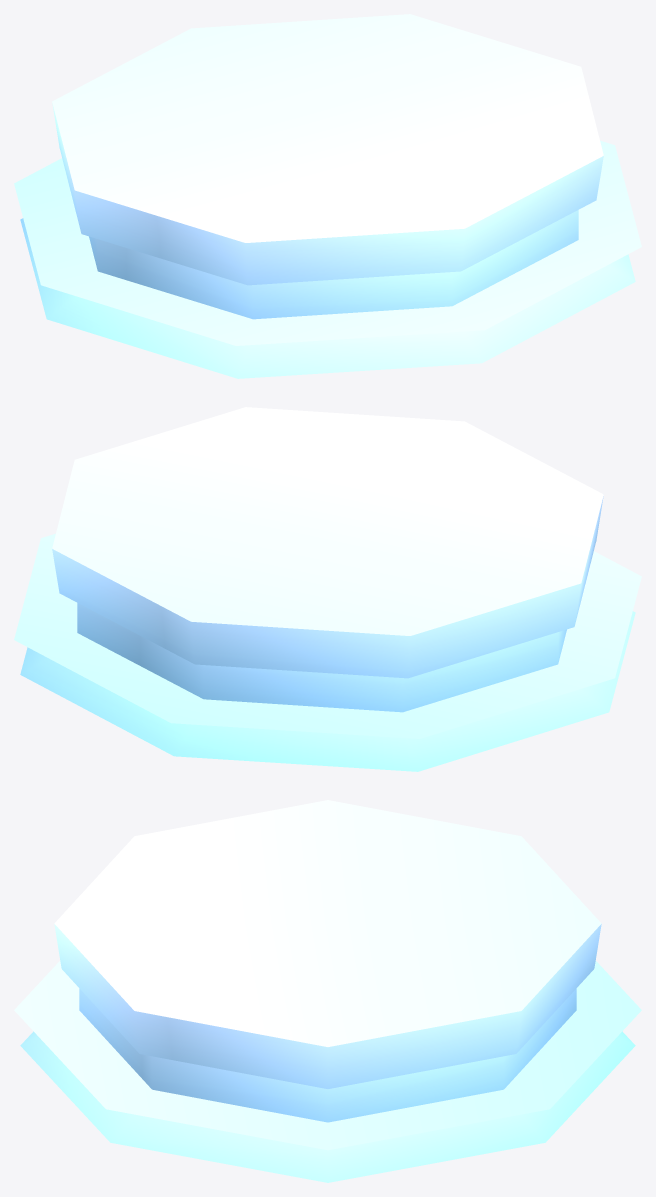
The model's file is steel_guard_062.glb.
3 views of the same model, one above another, from view 1: azimuth 30°, elevation 25°; view 2: azimuth 150°, elevation 25°; view 3: azimuth 270°, elevation 25° (orthographic).
Visible parts, largest first — view 1: steel_guard_062; view 2: steel_guard_062; view 3: steel_guard_062.
Part boxes in pixels (x1,y1,x2,y2): steel_guard_062: [14, 14, 641, 378]; steel_guard_062: [14, 407, 641, 771]; steel_guard_062: [14, 800, 641, 1182].
Size of the model in its own units: 4.9 by 0.9958 by 4.64.
1 material, 1 textured.
